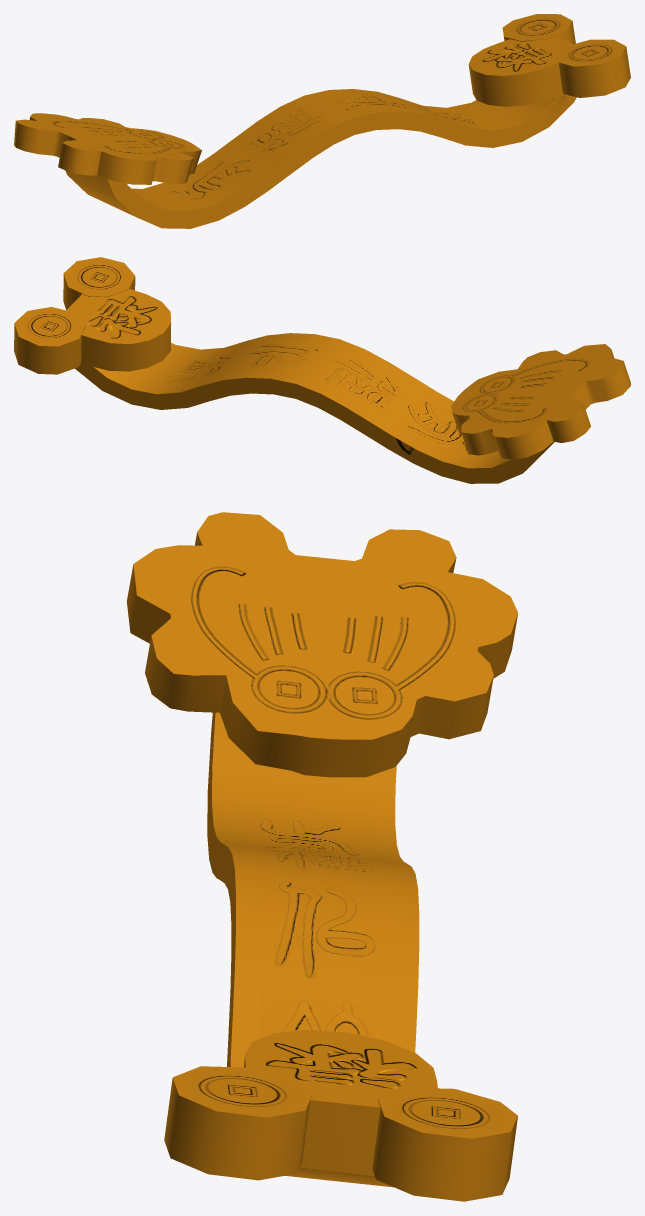
File: AF_M_Prop_05.FBX
The picture shows the model from 3 angles, top to bottom: view 1: azimuth 30°, elevation 25°; view 2: azimuth 150°, elevation 25°; view 3: azimuth 270°, elevation 25°; orthographic projection. The views are drawn at different scales.
Parts seen in each view (by area): view 1: AF_M_Prop_05; view 2: AF_M_Prop_05; view 3: AF_M_Prop_05.
Boxes of the visible parts, x1,y1,x2,y2 form: AF_M_Prop_05: (14, 14, 630, 228); AF_M_Prop_05: (14, 257, 630, 483); AF_M_Prop_05: (126, 512, 517, 1201).
Bounding box in the file's own units: 400 × 79.26 × 121.
1 material, 1 textured.
